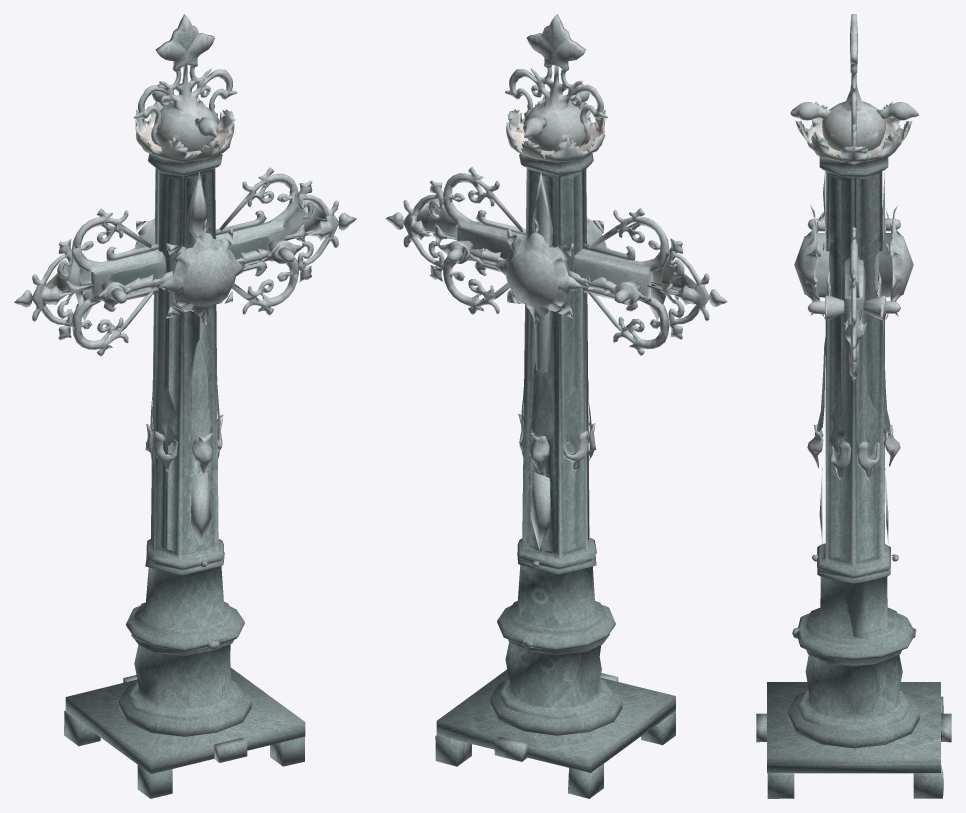
Rendered from cross.glb.
The picture shows the model from 3 angles, left to right: view 1: azimuth 30°, elevation 25°; view 2: azimuth 150°, elevation 25°; view 3: azimuth 270°, elevation 25°; orthographic projection.
Bounding box in the file's own units: 0.4653 × 0.9531 × 0.2261.
Materials: 1 (1 with a texture image).
